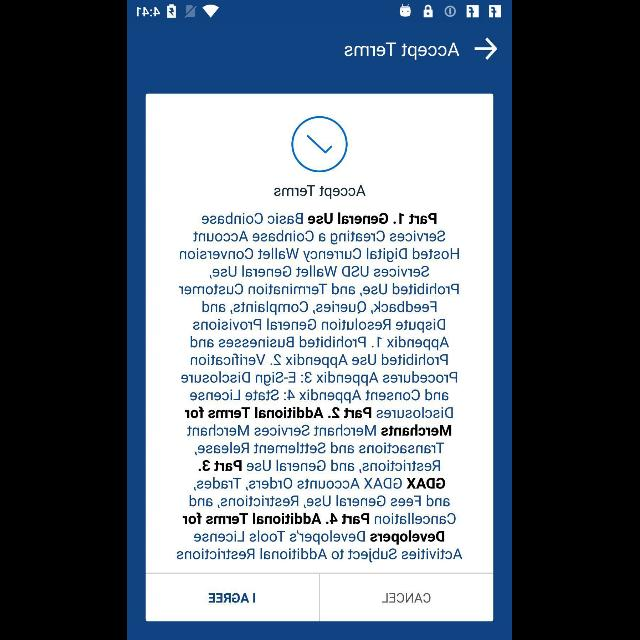icon: (476, 37, 498, 61)
image: (292, 116, 348, 174)
text: (176, 212, 464, 562), (345, 41, 461, 60), (275, 184, 367, 200)
textbutton: (146, 572, 320, 622), (320, 572, 494, 622)
uppertaskbar: (128, 1, 512, 19)
